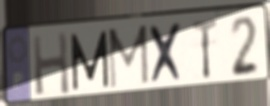2: (227, 13, 261, 79)
H: (30, 29, 72, 99)
M: (106, 23, 151, 92), (69, 28, 111, 93)
T: (190, 16, 220, 83)
X: (147, 20, 187, 87)
